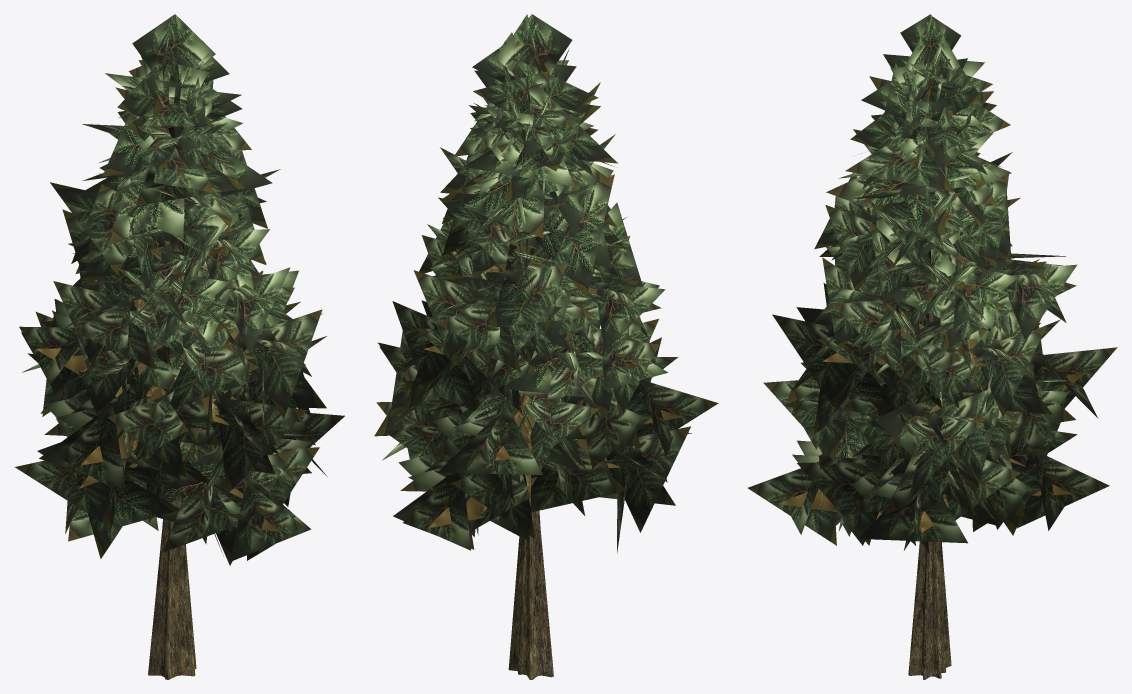
Rendered from PineSmall2.fbx.
The picture shows the model from 3 angles, left to right: view 1: azimuth 30°, elevation 25°; view 2: azimuth 150°, elevation 25°; view 3: azimuth 270°, elevation 25°; orthographic projection.
Visible parts, largest first — view 1: PineSmall2_LOD0; view 2: PineSmall2_LOD0; view 3: PineSmall2_LOD0.
Boxes of the visible parts, box(x1,y1,x2,y2) form: PineSmall2_LOD0: box(15, 14, 344, 679); PineSmall2_LOD0: box(374, 14, 718, 679); PineSmall2_LOD0: box(748, 14, 1117, 679).
Size of what is drawn, in the model's own units: 2.77 by 5.51 by 2.82.
